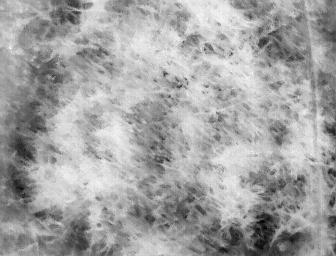landmine: (61, 166, 108, 200)
